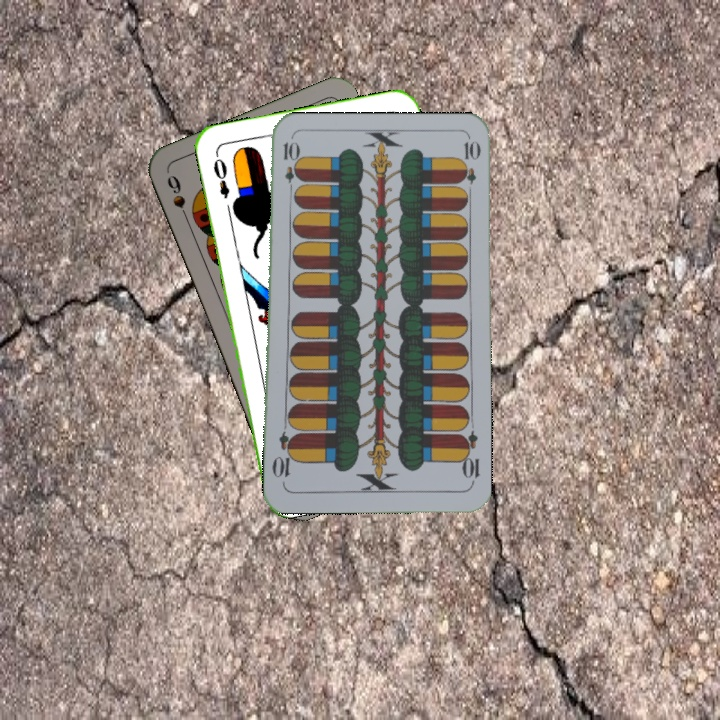E10: (456, 428, 482, 487), (279, 138, 297, 197)
EO: (209, 149, 233, 201)
S9: (162, 170, 193, 227)
